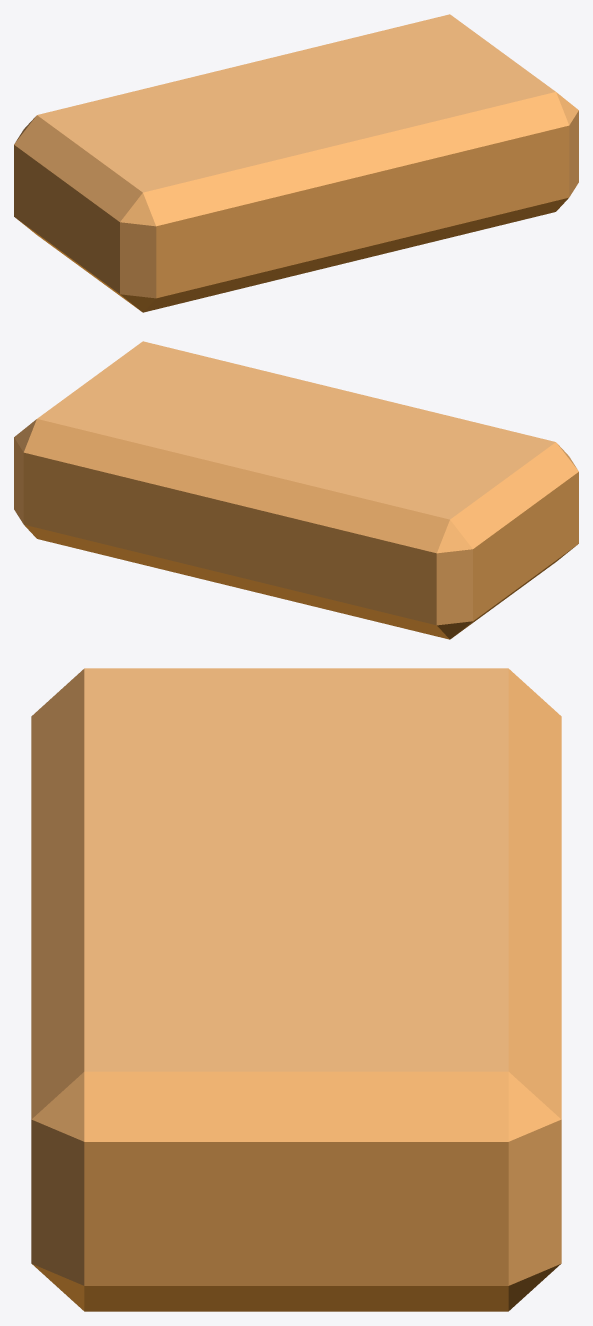
The model's file is m_kub_clay_flatBrick.FBX.
The picture shows the model from 3 angles, top to bottom: view 1: azimuth 30°, elevation 25°; view 2: azimuth 150°, elevation 25°; view 3: azimuth 270°, elevation 25°; orthographic projection. The views are drawn at different scales.
Parts seen in each view (by area): view 1: m_kub_clay_flatBrick; view 2: m_kub_clay_flatBrick; view 3: m_kub_clay_flatBrick.
Part boxes in pixels (<box>): m_kub_clay_flatBrick: <box>14,14,578,312</box>; m_kub_clay_flatBrick: <box>14,341,578,639</box>; m_kub_clay_flatBrick: <box>31,668,561,1311</box>.
Bounding box in the file's own units: 2 × 0.5 × 1.
